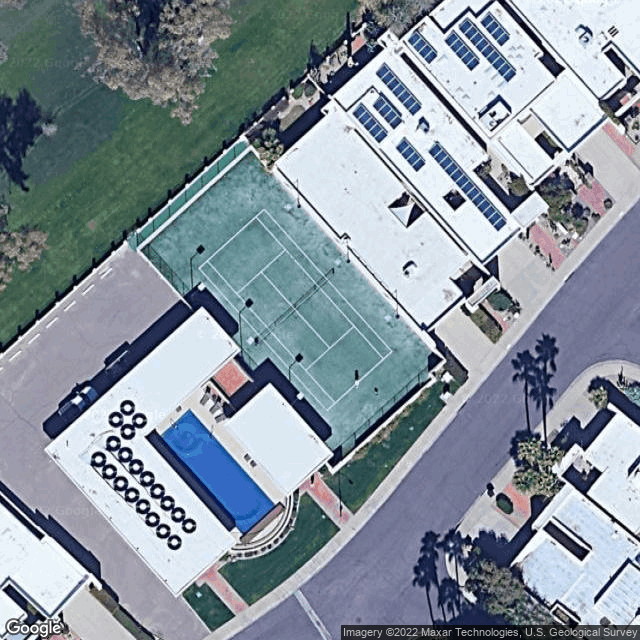Court: (197, 208, 396, 411)
